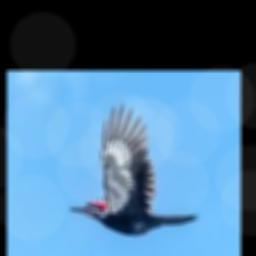Woodpecker: (69, 102, 199, 235)
